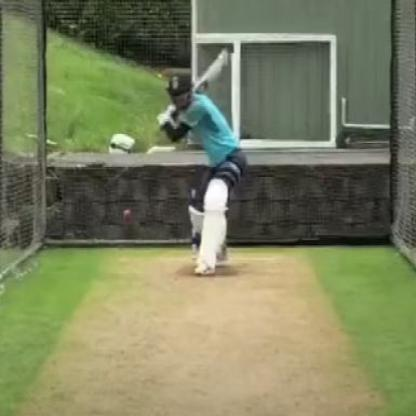ball: (117, 207, 136, 225)
